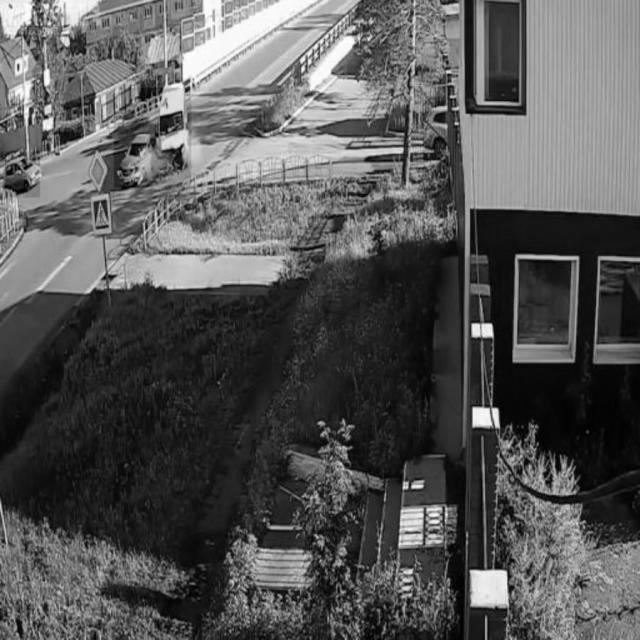accident: (114, 87, 191, 187)
vehicle: (5, 151, 41, 197)
